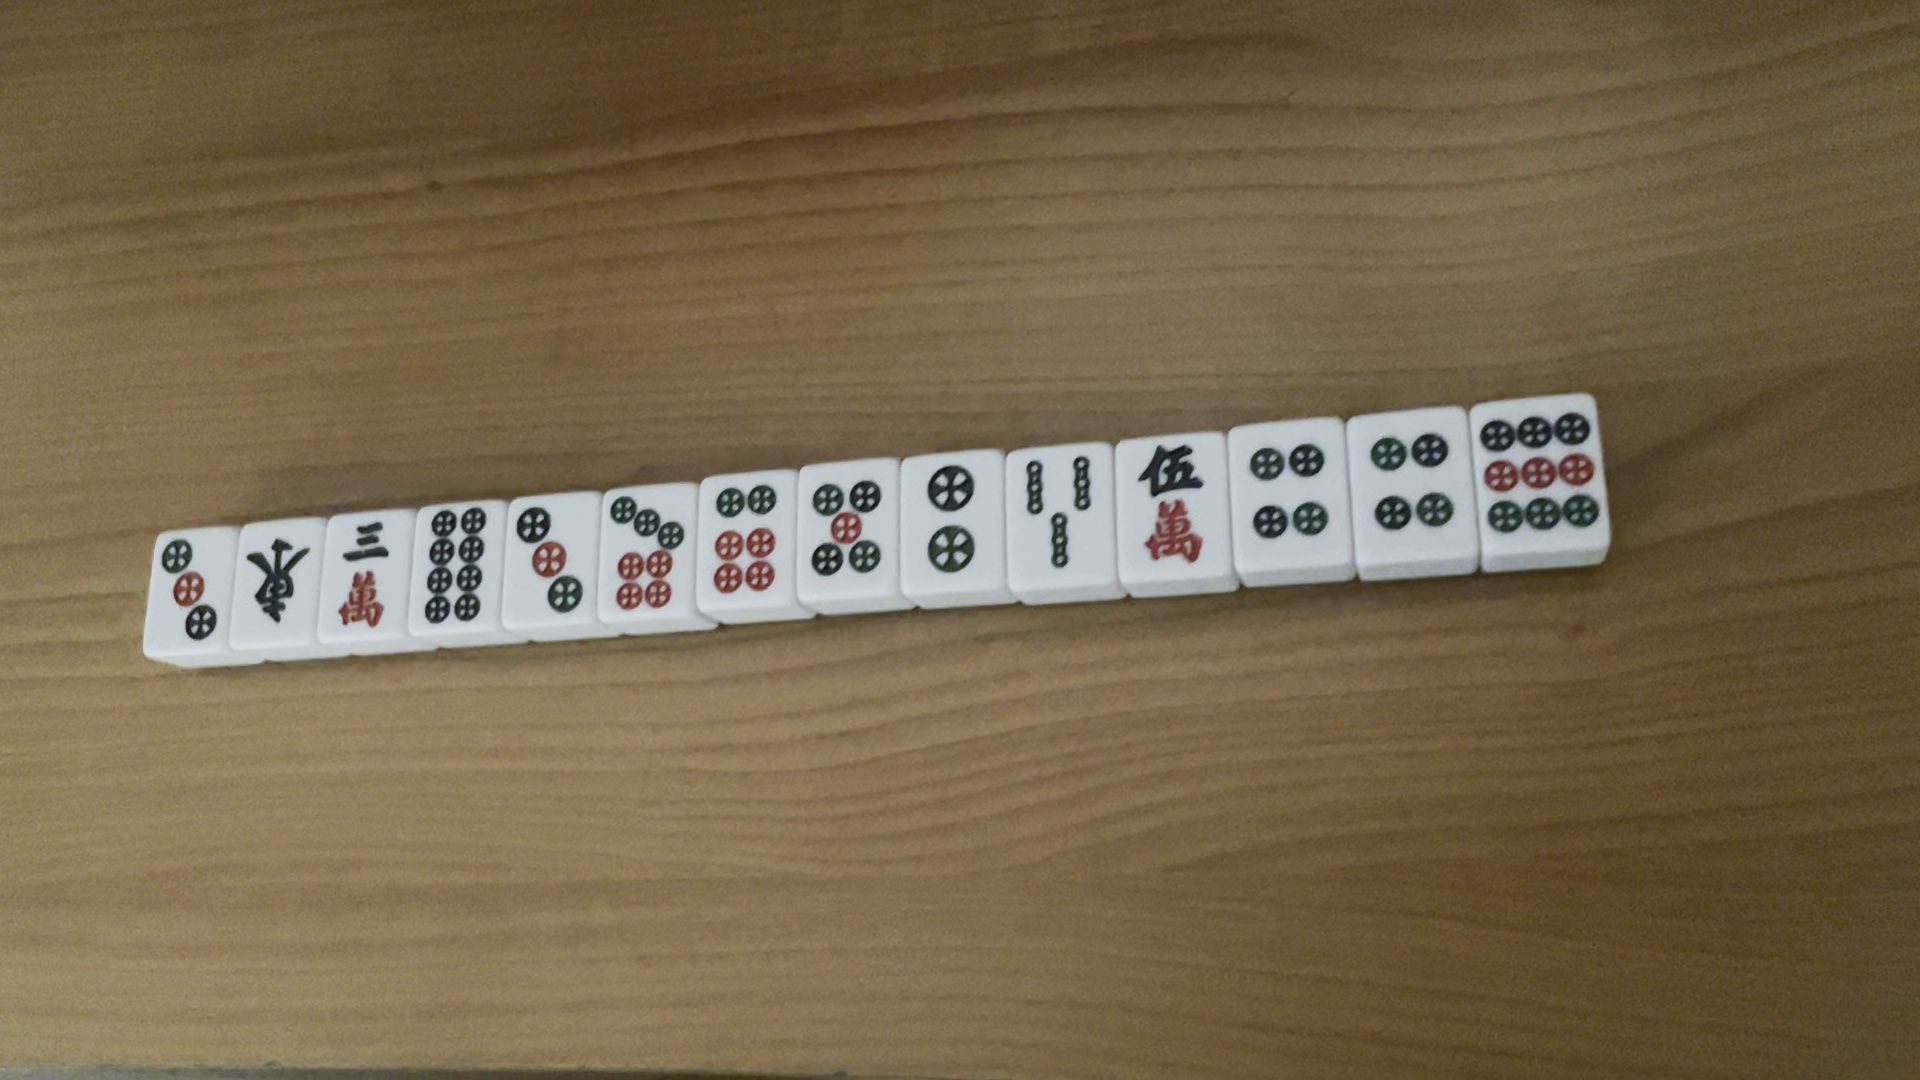b-3: (1013, 450, 1098, 572)
c-3: (331, 521, 396, 632)
c-5: (1131, 435, 1216, 576)
d-2: (919, 458, 984, 578)
d-3: (510, 504, 583, 617), (157, 538, 225, 647)
d-4: (1364, 425, 1458, 538), (1241, 438, 1332, 546)
d-5: (800, 472, 887, 583)
d-6: (703, 483, 785, 597)
d-7: (604, 489, 690, 615)
d-8: (419, 505, 487, 625)
d-9: (1474, 405, 1604, 541)
honors-east: (237, 527, 310, 626)
